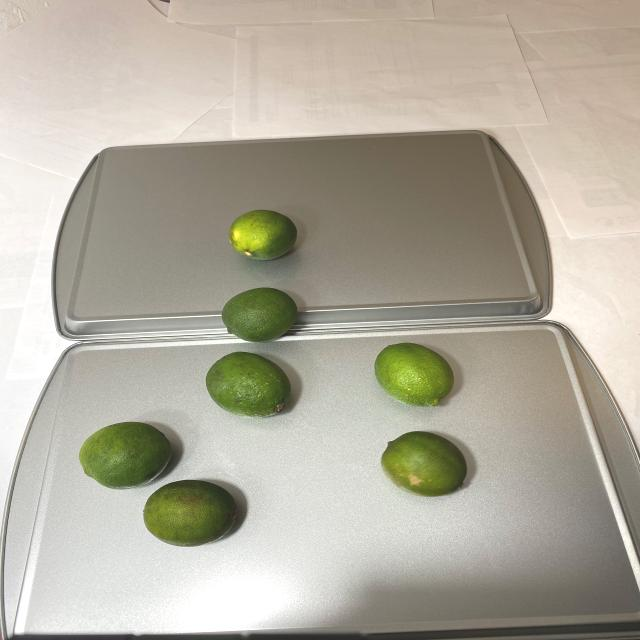lemon: (79, 207, 307, 540), (372, 346, 476, 496)
